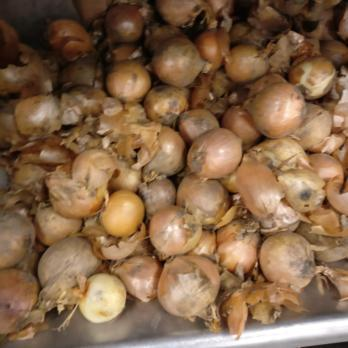Onion: (94, 0, 348, 315), (4, 18, 94, 333)
